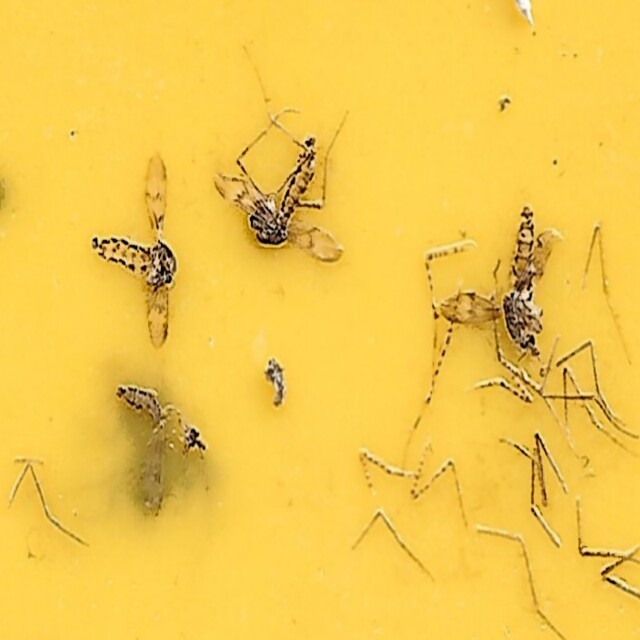Nematocera: (211, 127, 345, 276), (91, 154, 185, 356), (438, 210, 549, 367), (118, 381, 207, 513)
